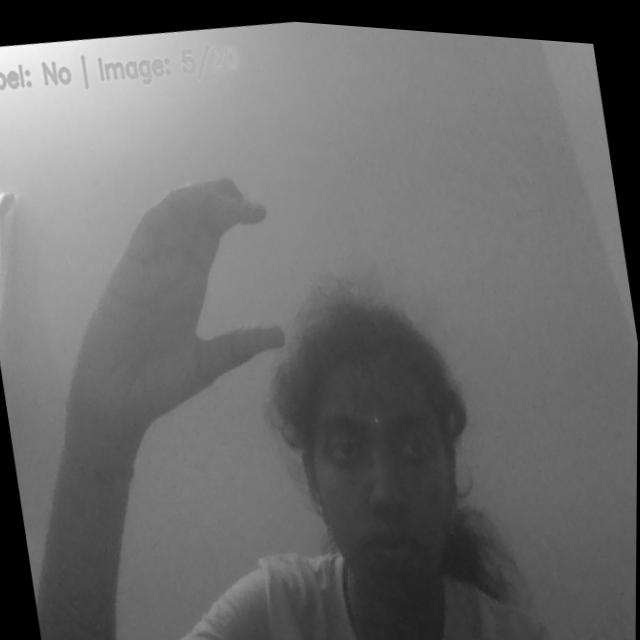No: (24, 147, 309, 472)
